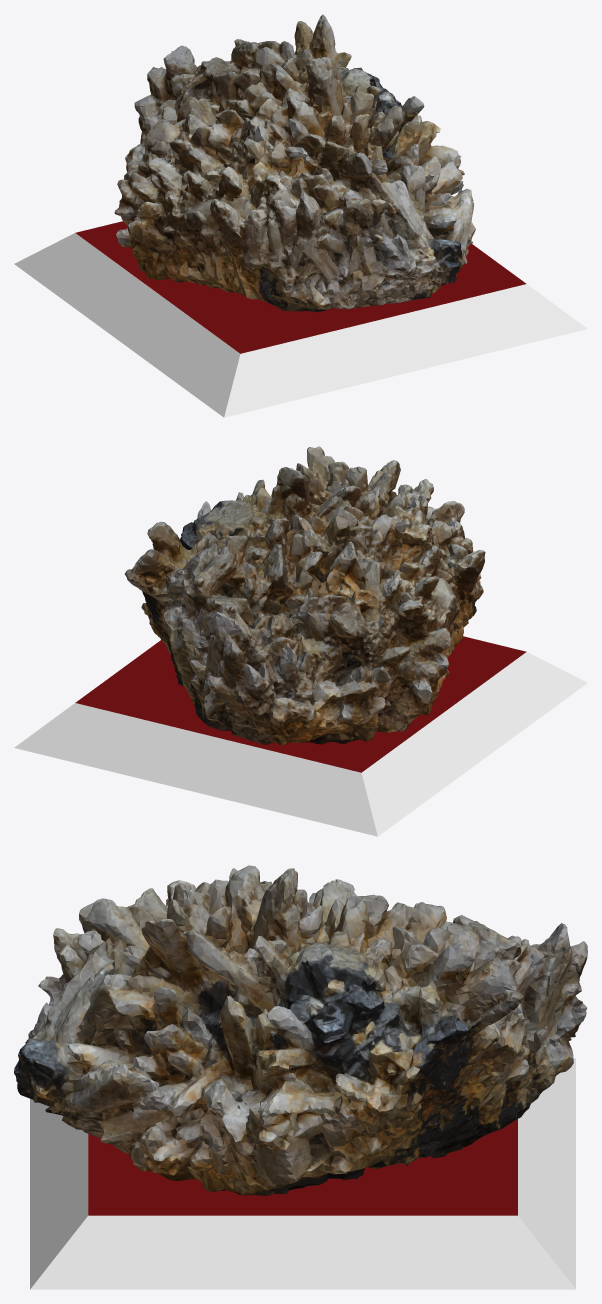
The picture shows the model from 3 angles, top to bottom: view 1: azimuth 30°, elevation 25°; view 2: azimuth 150°, elevation 25°; view 3: azimuth 270°, elevation 25°; orthographic projection. The views are drawn at different scales.
Parts seen in each view (by area): view 1: texturedMesh, Cube; view 2: texturedMesh, Cube; view 3: texturedMesh, Cube.
Part boxes in pixels (x1,y1,x2,y2): texturedMesh: (114,14,475,312); Cube: (14,221,587,417); texturedMesh: (124,446,485,745); Cube: (14,630,587,836); texturedMesh: (14,865,587,1195); Cube: (30,1058,575,1289).
Size of the model in its own units: 2.15 by 1.35 by 2.26.
Materials: 5 (2 with a texture image).
